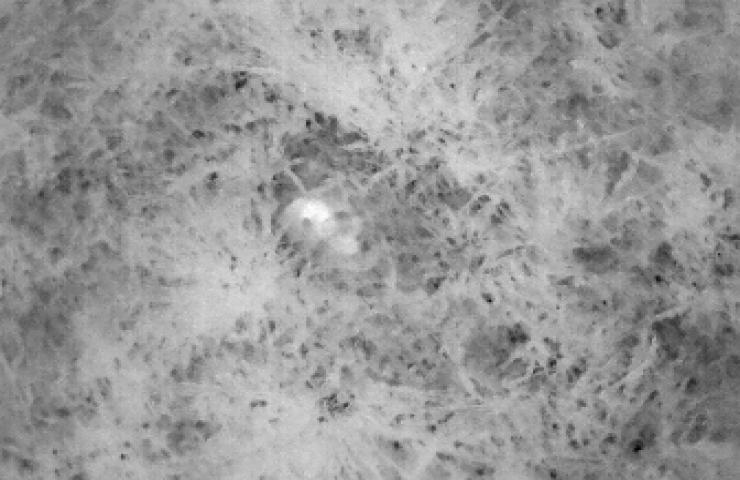landmines: (277, 195, 340, 251)
